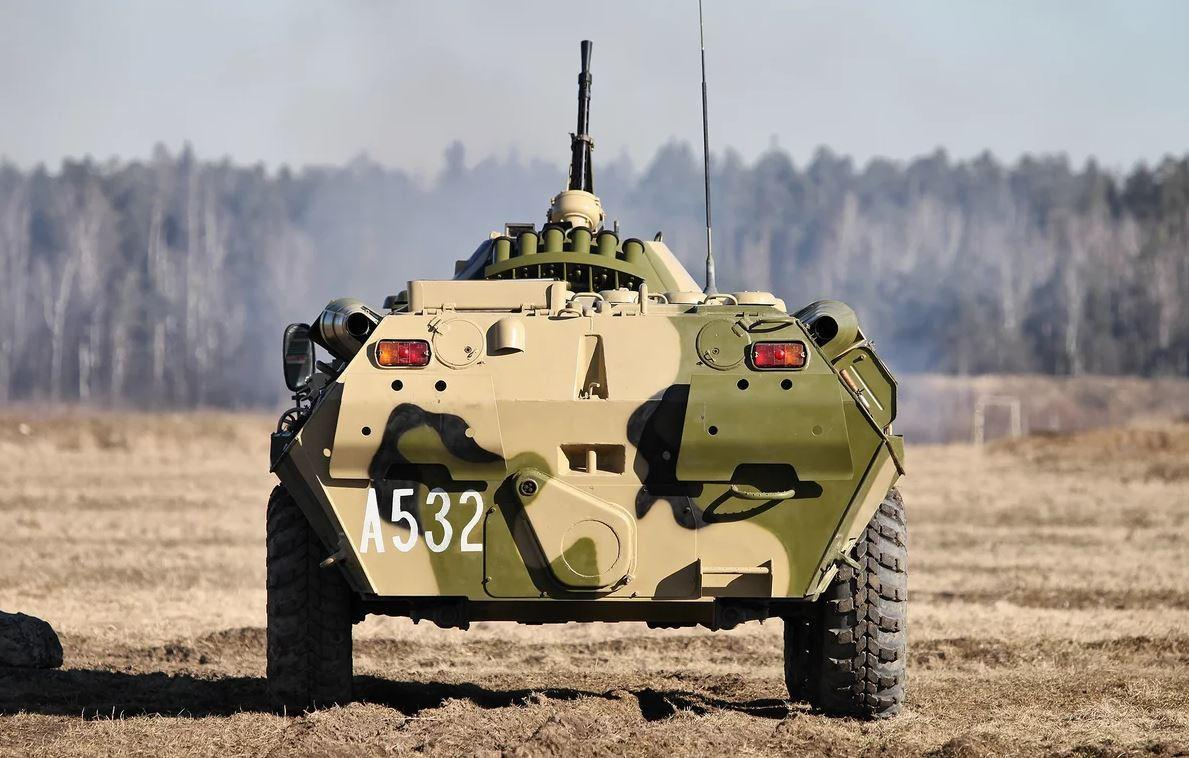tank: (264, 37, 908, 720)
